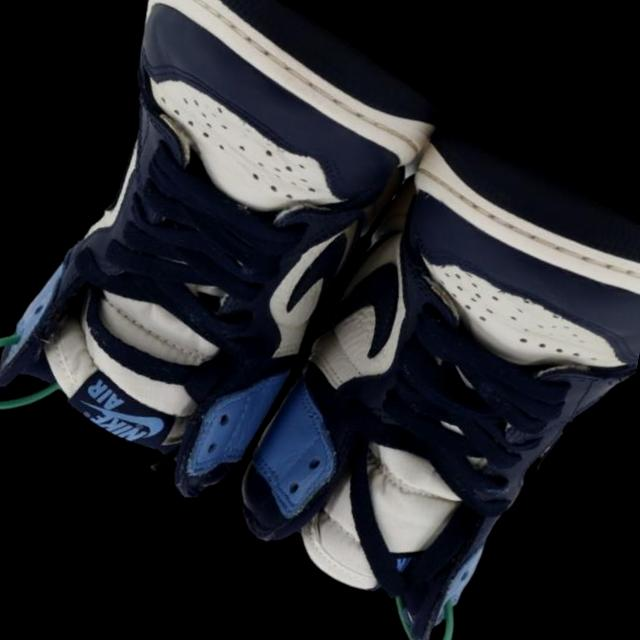nike_original_jordan: (171, 75, 640, 640), (0, 0, 474, 552)
